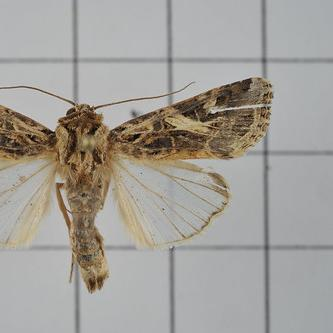Spodoptera litura: (1, 76, 274, 295)
